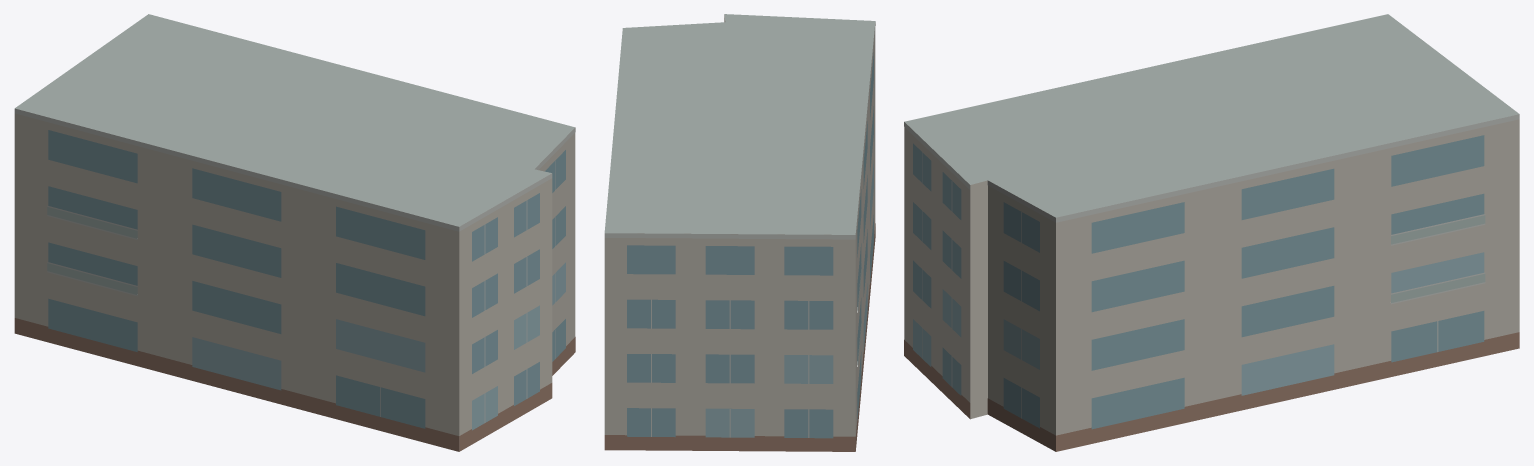
File: survey-upis-32679841.glb
3 renders of one model, left to right at view 1: azimuth 30°, elevation 25°; view 2: azimuth 150°, elevation 25°; view 3: azimuth 270°, elevation 25°, orthographic. The views are drawn at different scales.
Parts seen in each view (by area): view 1: survey-upis-32679841.tmp; view 2: survey-upis-32679841.tmp; view 3: survey-upis-32679841.tmp.
Boxes of the visible parts, x1,y1,x2,y2 form: survey-upis-32679841.tmp: [14, 14, 575, 451]; survey-upis-32679841.tmp: [604, 14, 875, 451]; survey-upis-32679841.tmp: [904, 14, 1519, 451].
Size of the model in its own units: 21.09 by 11.3 by 26.93.
